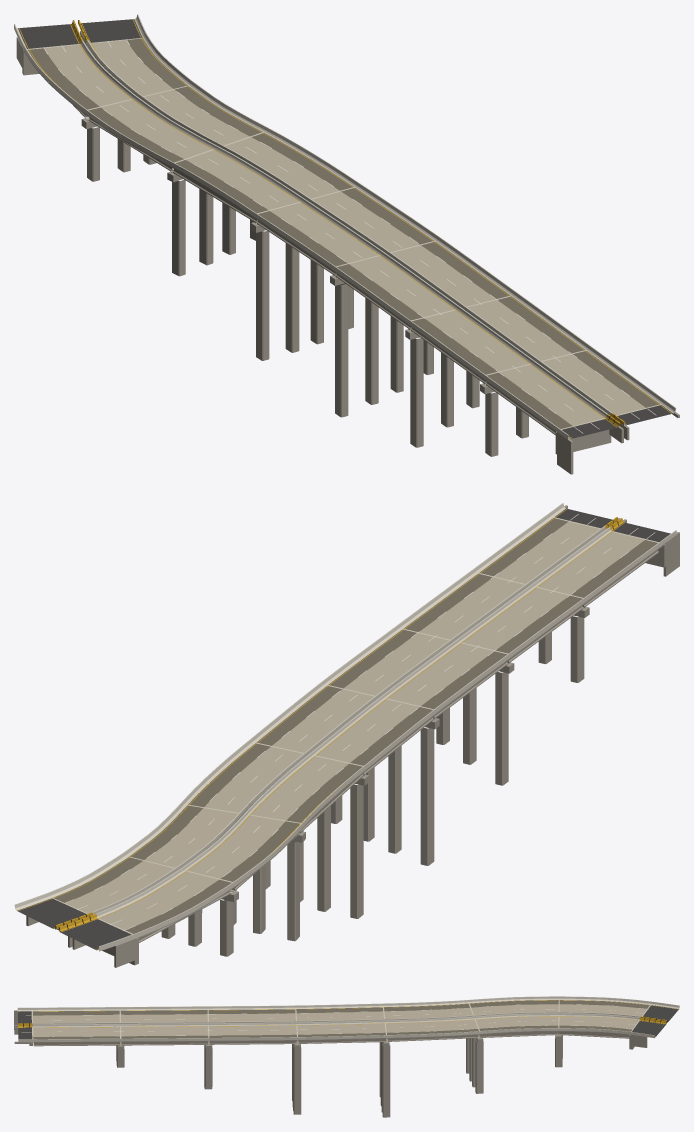
The model's file is m2_salt_range_viaducts.glb.
The picture shows the model from 3 angles, top to bottom: view 1: azimuth 30°, elevation 25°; view 2: azimuth 150°, elevation 25°; view 3: azimuth 270°, elevation 25°; orthographic projection. The views are drawn at different scales.
Parts seen in each view (by area): view 1: m_deck_concrete, m_pier_concrete, m_outer_strip, m_parapet, m_asphalt, m_girder_concrete, m_line_yellow, m_deck_joint, m_line_white; view 2: m_deck_concrete, m_pier_concrete, m_outer_strip, m_parapet, m_asphalt, m_girder_concrete, m_line_yellow, m_deck_joint, m_line_white; view 3: m_deck_concrete, m_parapet, m_outer_strip, m_pier_concrete, m_girder_concrete, m_asphalt, m_line_yellow, m_line_white, m_deck_joint.
Part boxes in pixels (left/top/right/bottom): m_deck_concrete: left=44, top=40, right=645, bottom=425; m_pier_concrete: left=16, top=31, right=679, bottom=474; m_outer_strip: left=28, top=38, right=659, bottom=428; m_parapet: left=14, top=14, right=676, bottom=439; m_asphalt: left=18, top=19, right=672, bottom=438; m_girder_concrete: left=73, top=79, right=555, bottom=435; m_line_yellow: left=19, top=19, right=671, bottom=438; m_deck_joint: left=27, top=38, right=660, bottom=429; m_line_white: left=43, top=39, right=656, bottom=433; m_deck_concrete: left=65, top=521, right=644, bottom=929; m_pier_concrete: left=26, top=505, right=679, bottom=967; m_outer_strip: left=53, top=518, right=657, bottom=933; m_parapet: left=14, top=503, right=676, bottom=951; m_asphalt: left=17, top=508, right=670, bottom=950; m_girder_concrete: left=80, top=550, right=658, bottom=942; m_line_yellow: left=17, top=508, right=624, bottom=949; m_deck_joint: left=52, top=517, right=658, bottom=934; m_line_white: left=63, top=514, right=655, bottom=930; m_deck_concrete: left=33, top=1004, right=646, bottom=1036; m_parapet: left=17, top=996, right=679, bottom=1042; m_outer_strip: left=33, top=1000, right=649, bottom=1039; m_pier_concrete: left=14, top=1010, right=649, bottom=1117; m_girder_concrete: left=33, top=1004, right=629, bottom=1046; m_asphalt: left=18, top=1005, right=678, bottom=1039; m_line_yellow: left=18, top=1000, right=677, bottom=1036; m_line_white: left=21, top=1004, right=648, bottom=1036; m_deck_joint: left=31, top=1000, right=650, bottom=1045.
Bounding box in the file's own units: 33 × 34.88 × 226.
